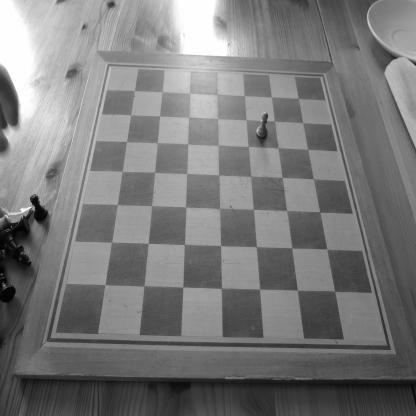black-bishop: (0, 228, 32, 268)
black-pawn: (0, 272, 16, 304), (30, 193, 48, 221)
white-knight: (0, 206, 34, 233)
white-pawn: (256, 112, 268, 138)
